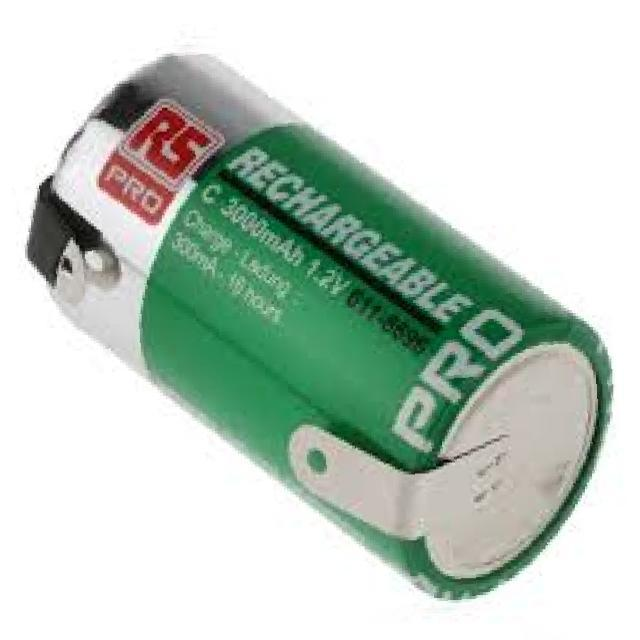Battery: (20, 45, 623, 604)
